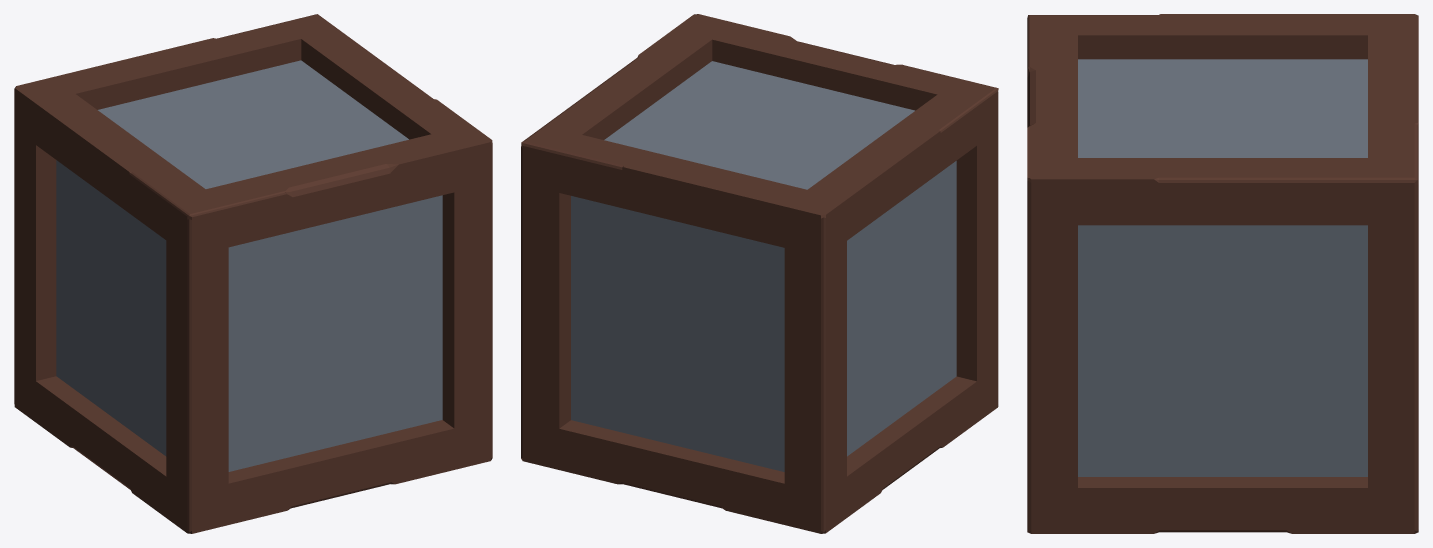
Rendered from AmmoBox.glb.
3 views of the same model, side by side, from view 1: azimuth 30°, elevation 25°; view 2: azimuth 150°, elevation 25°; view 3: azimuth 270°, elevation 25° (orthographic). The views are drawn at different scales.
Parts seen in each view (by area): view 1: AmmoBox; view 2: AmmoBox; view 3: AmmoBox.
Boxes of the visible parts, left/top/right/bottom form: AmmoBox: left=14, top=14, right=492, bottom=533; AmmoBox: left=521, top=14, right=998, bottom=533; AmmoBox: left=1027, top=14, right=1418, bottom=533.
Bounding box in the file's own units: 0.5 × 0.5 × 0.5.
